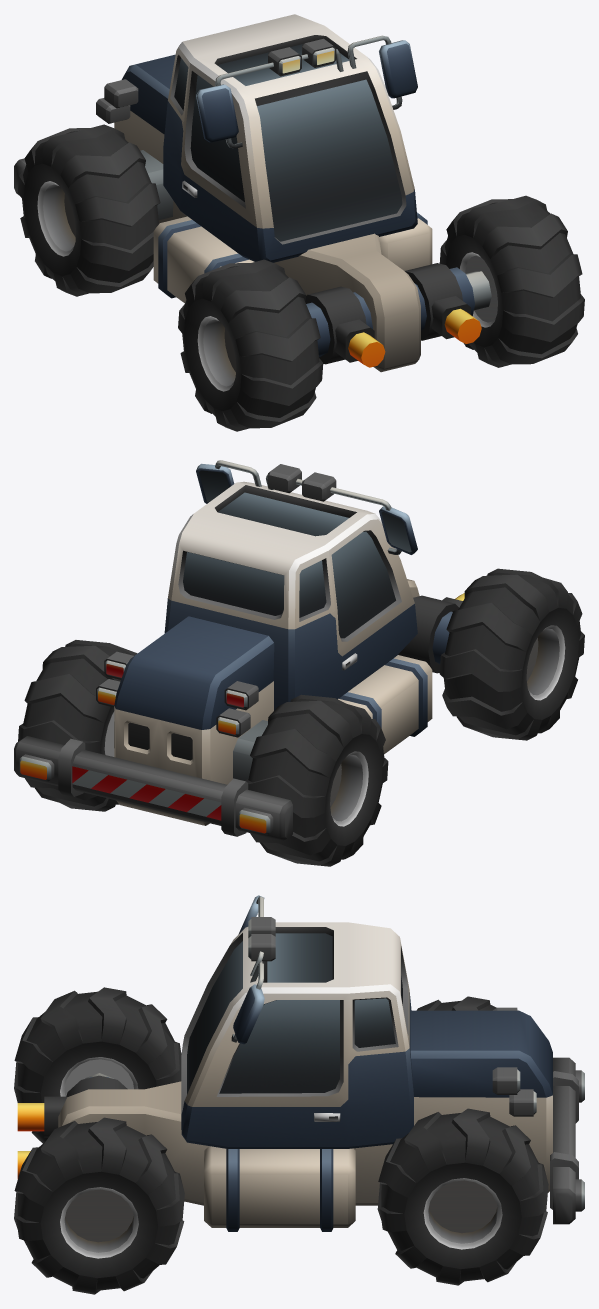
Rendered from VHC0110020.FBX.
3 renders of one model, top to bottom at view 1: azimuth 30°, elevation 25°; view 2: azimuth 150°, elevation 25°; view 3: azimuth 270°, elevation 25°, orthographic.
Parts seen in each view (by area): view 1: smVHC0110020; view 2: smVHC0110020; view 3: smVHC0110020.
Boxes of the visible parts, x1,y1,x2,y2 form: smVHC0110020: (14,14,584,431); smVHC0110020: (14,460,584,866); smVHC0110020: (14,895,584,1294).
Size of the model in its own units: 3.72 by 2.98 by 5.34.
1 material, 1 textured.
